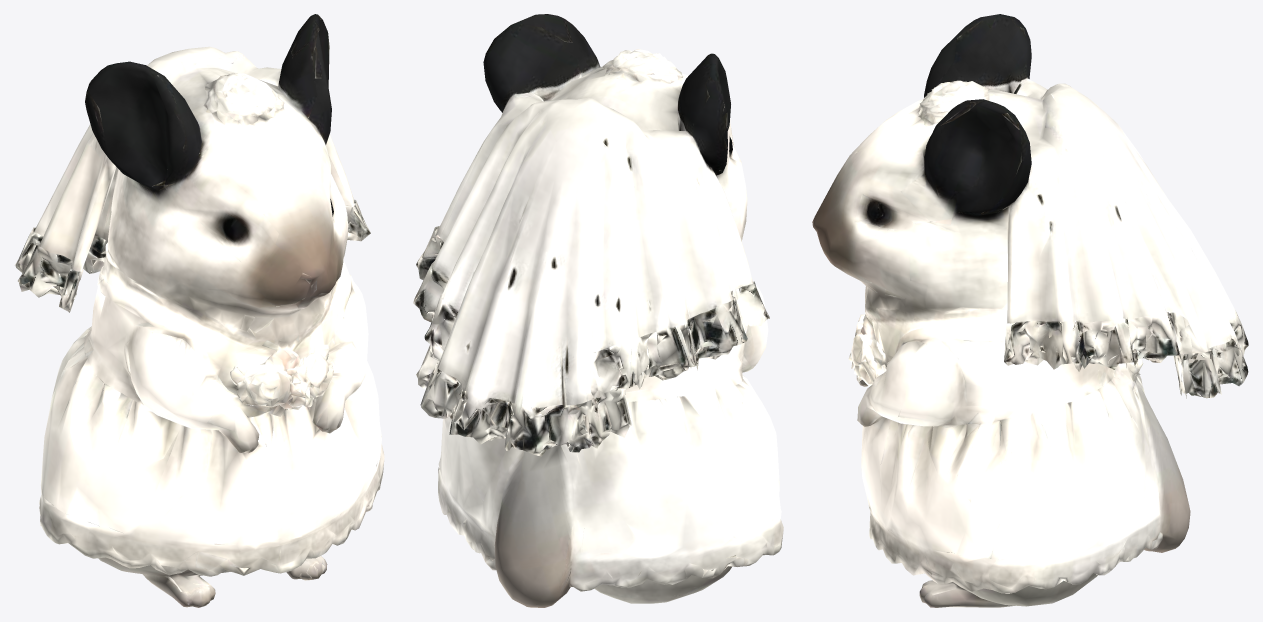
The model's file is costume-wedding_chinchilla-white-pied.glb.
3 renders of one model, left to right at view 1: azimuth 30°, elevation 25°; view 2: azimuth 150°, elevation 25°; view 3: azimuth 270°, elevation 25°, orthographic. The views are drawn at different scales.
Visible parts, largest first — view 1: Mesh_0; view 2: Mesh_0; view 3: Mesh_0.
Boxes of the visible parts, <box> form: Mesh_0: <box>15,14,384,607</box>; Mesh_0: <box>413,14,783,607</box>; Mesh_0: <box>812,14,1248,607</box>.
Bounding box in the file's own units: 1.22 × 1.9 × 1.45.
1 material, 1 textured.
